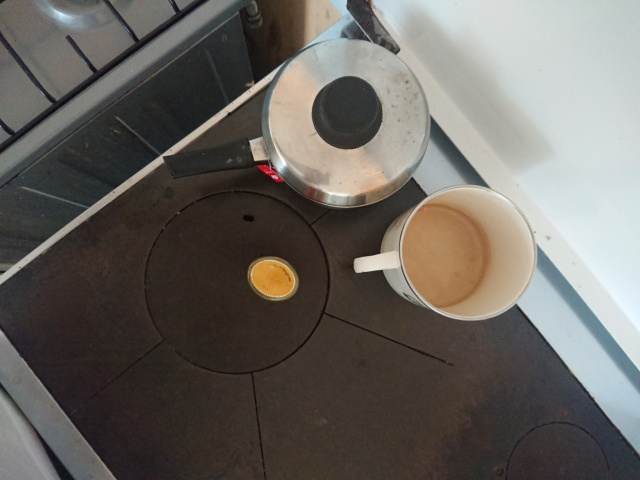Kotanyi Curry Spices Mix 70g: (245, 254, 301, 304)
